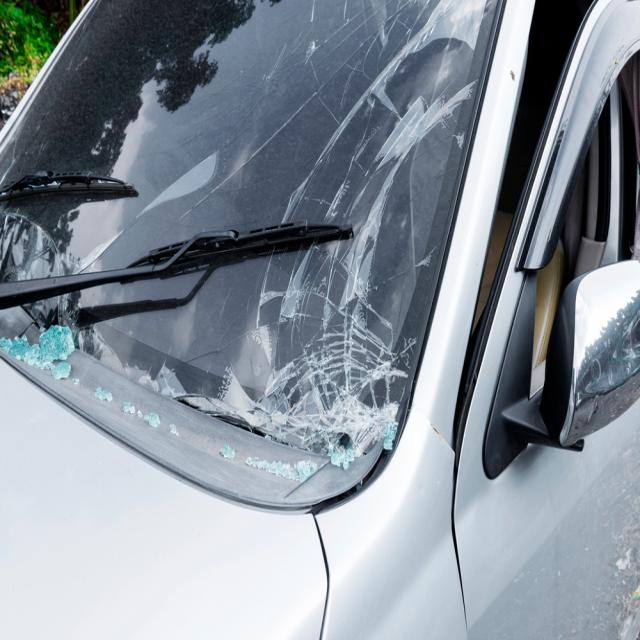Fissure: (256, 0, 487, 450), (79, 146, 262, 346), (0, 92, 109, 343)
